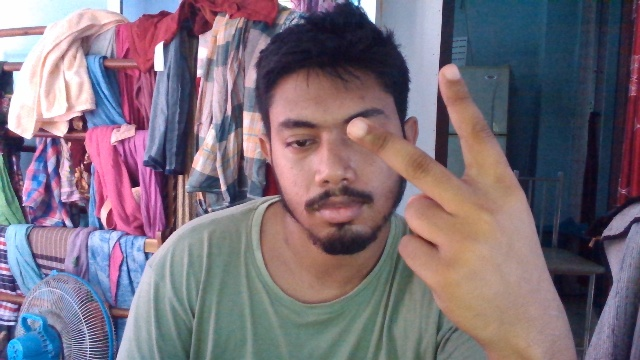thanks: (338, 53, 574, 334)
